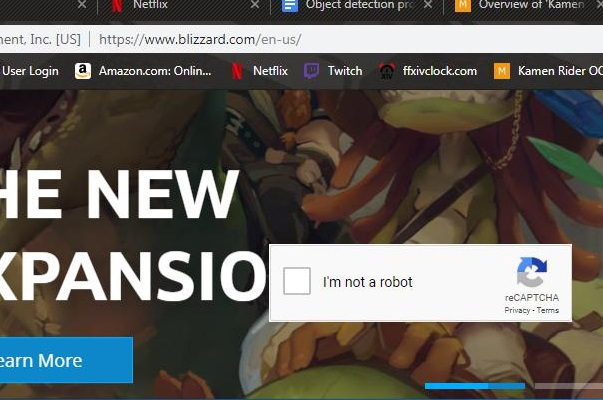captcha: (283, 267, 416, 295)
